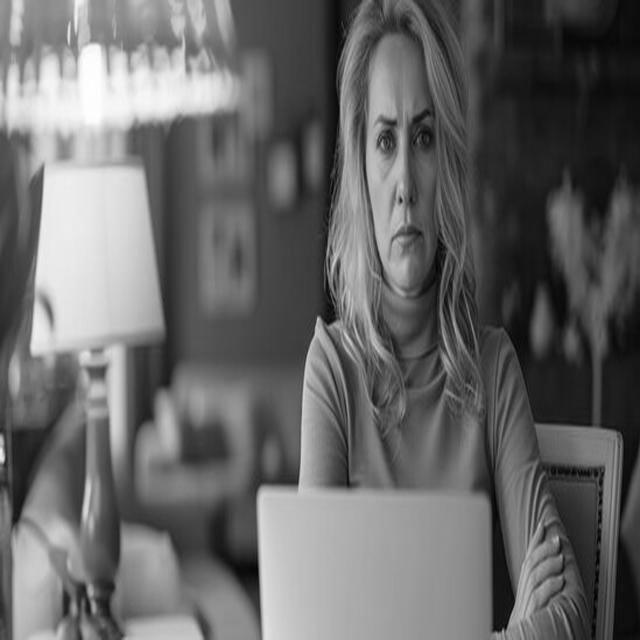Angry: (366, 32, 442, 288)
